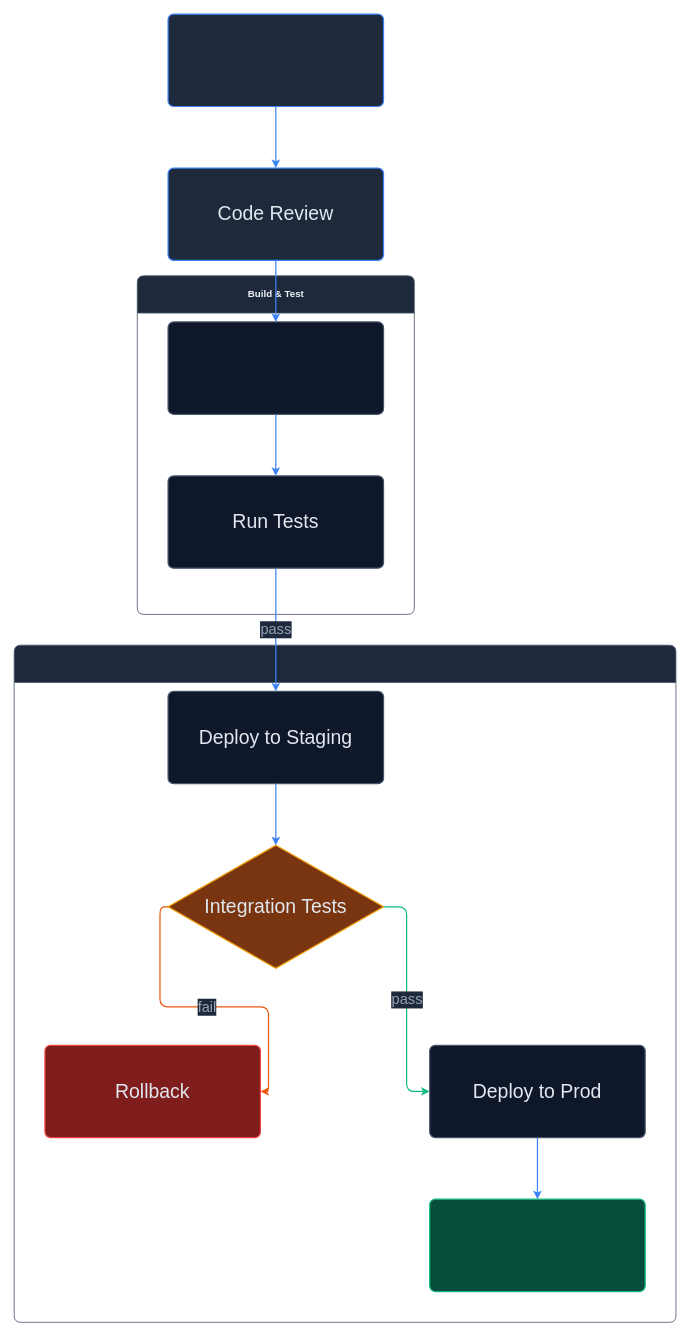
The diagram is 690 pixels wide and 1337 high, and some of its shapes have lost their labels. Each missing label, with the box of its shape:
Build Artifact: (167, 321, 384, 415)
Deployment: (13, 644, 676, 1322)
Developer Push: (167, 13, 384, 107)
Monitoring: (429, 1198, 645, 1292)
